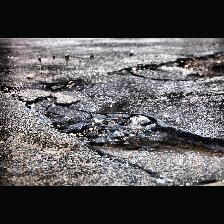pothole: (0, 83, 224, 184), (173, 51, 223, 80), (41, 78, 87, 92)
